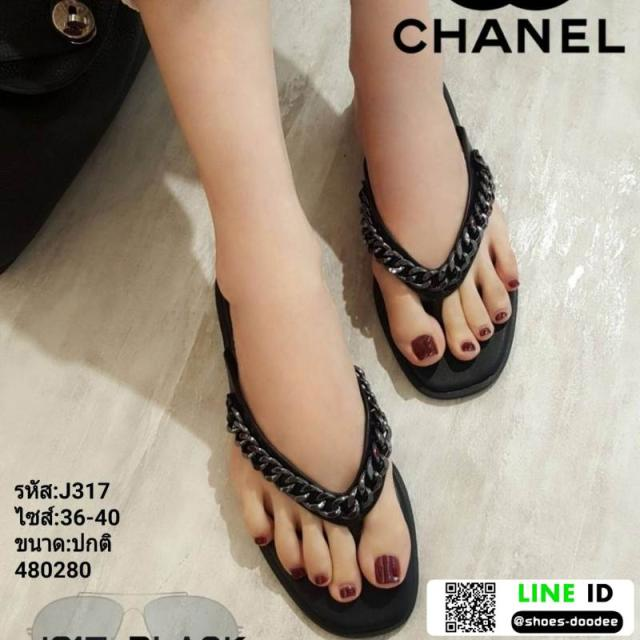Sandals: (157, 67, 538, 640)
